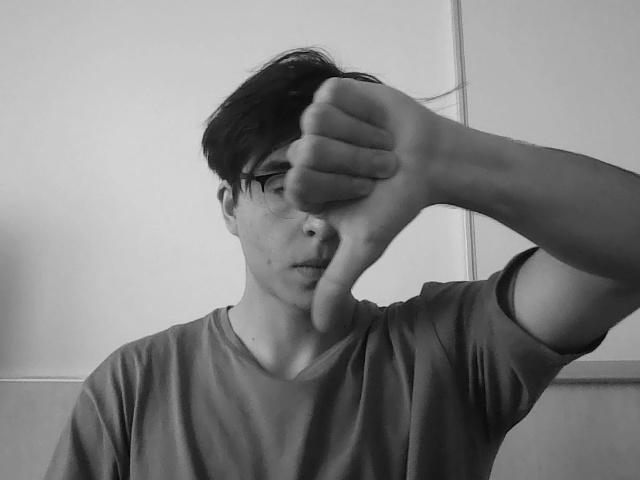bad: (295, 59, 419, 359)
